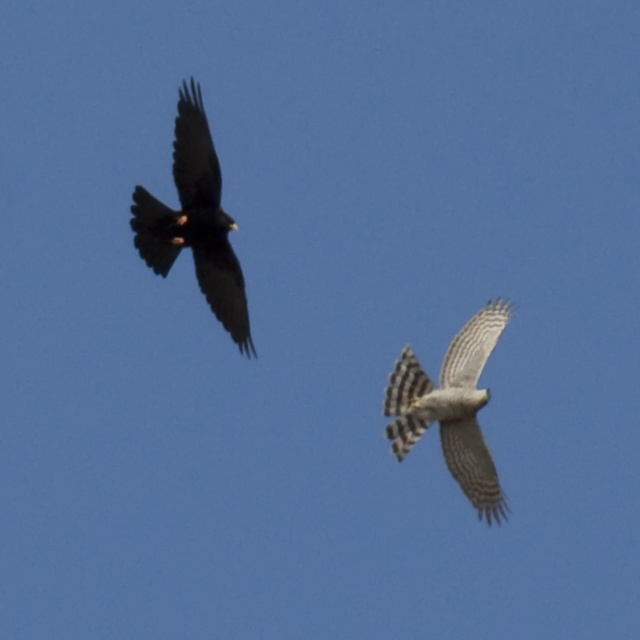Eagle: (128, 75, 260, 360), (378, 296, 517, 528)
